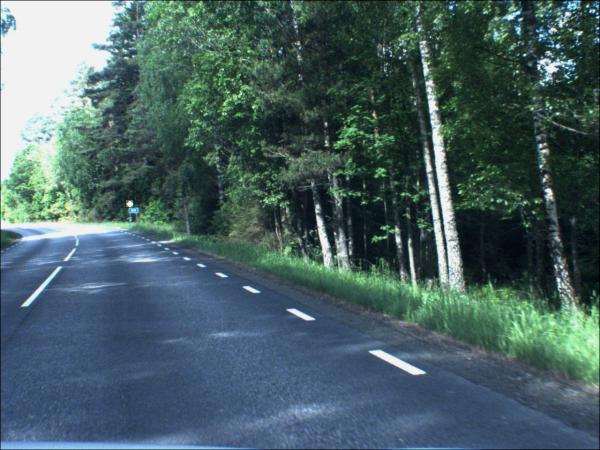PRIORITY_ROAD: (128, 202, 136, 210)
